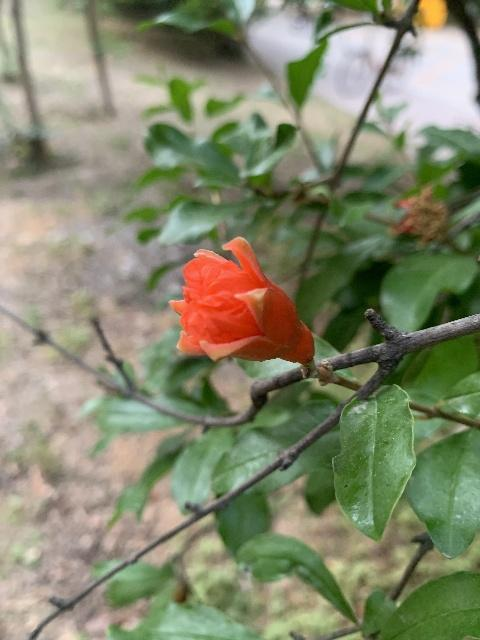flower: (169, 237, 314, 364)
